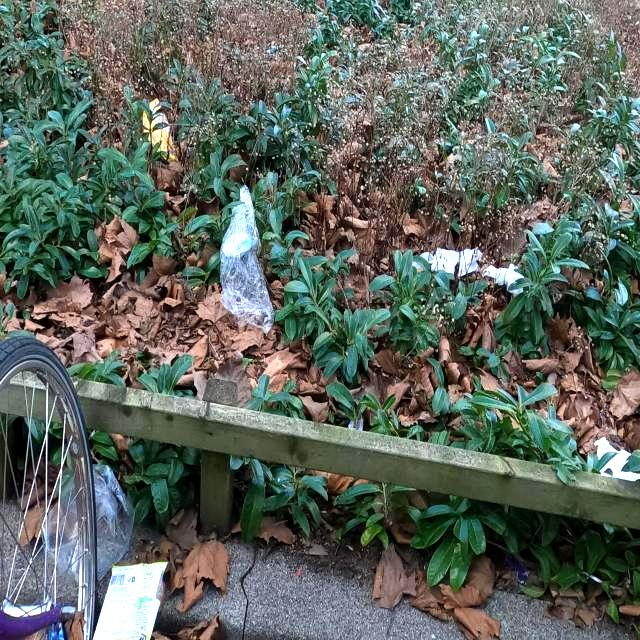Mask: (222, 222, 258, 258)
Paper: (592, 434, 640, 482), (412, 246, 482, 278), (482, 263, 524, 297), (504, 552, 530, 586)
Plastic: (90, 559, 170, 639), (142, 97, 178, 163)
